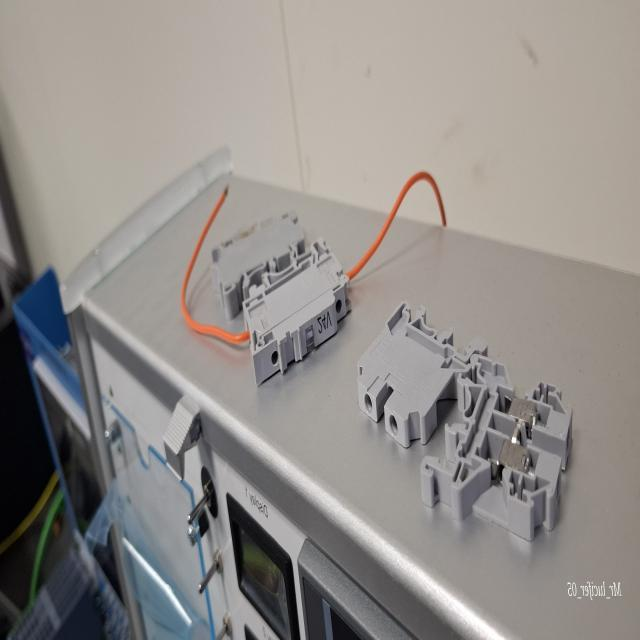Inverted: (351, 262, 487, 444)
Pass: (408, 334, 597, 564)
